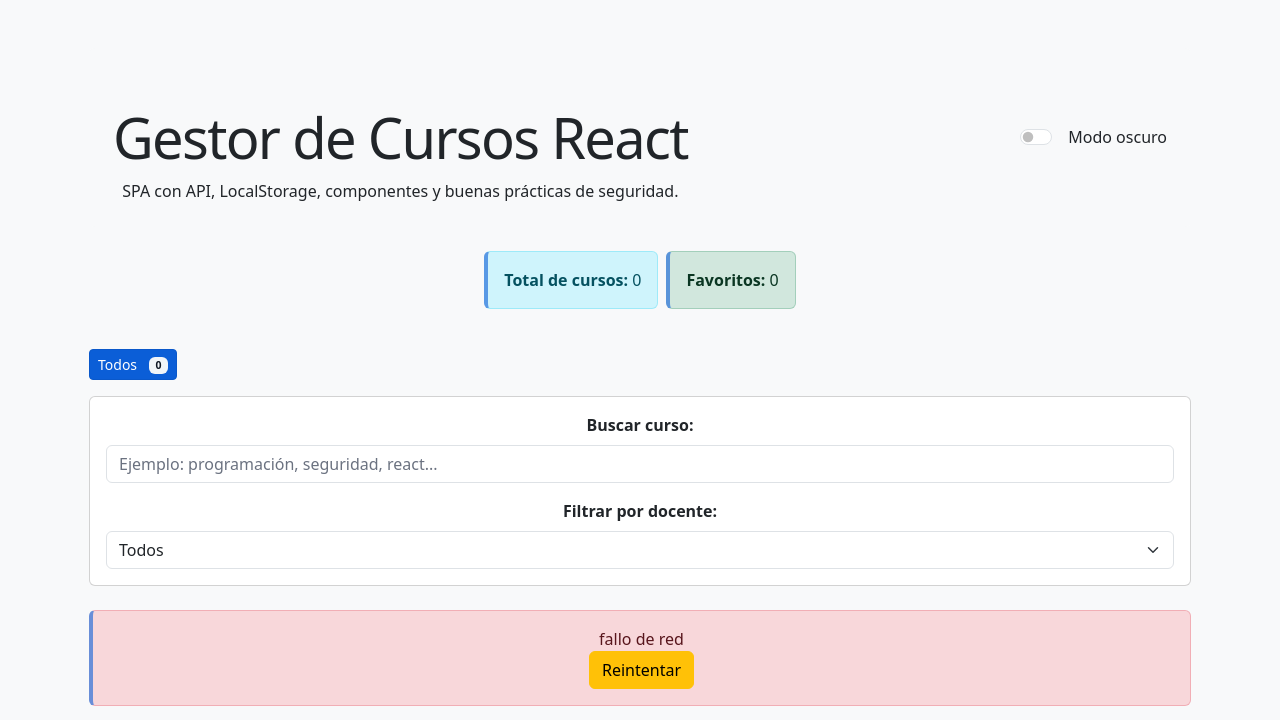
Test case: App › muestra error y permite reintentar carga
The image size is (1280, 720).
Expected: the text "fallo de red" is shown, [599,628,684,650]
Click the button "Reintentar" at (642, 670), box [589,651,694,689]
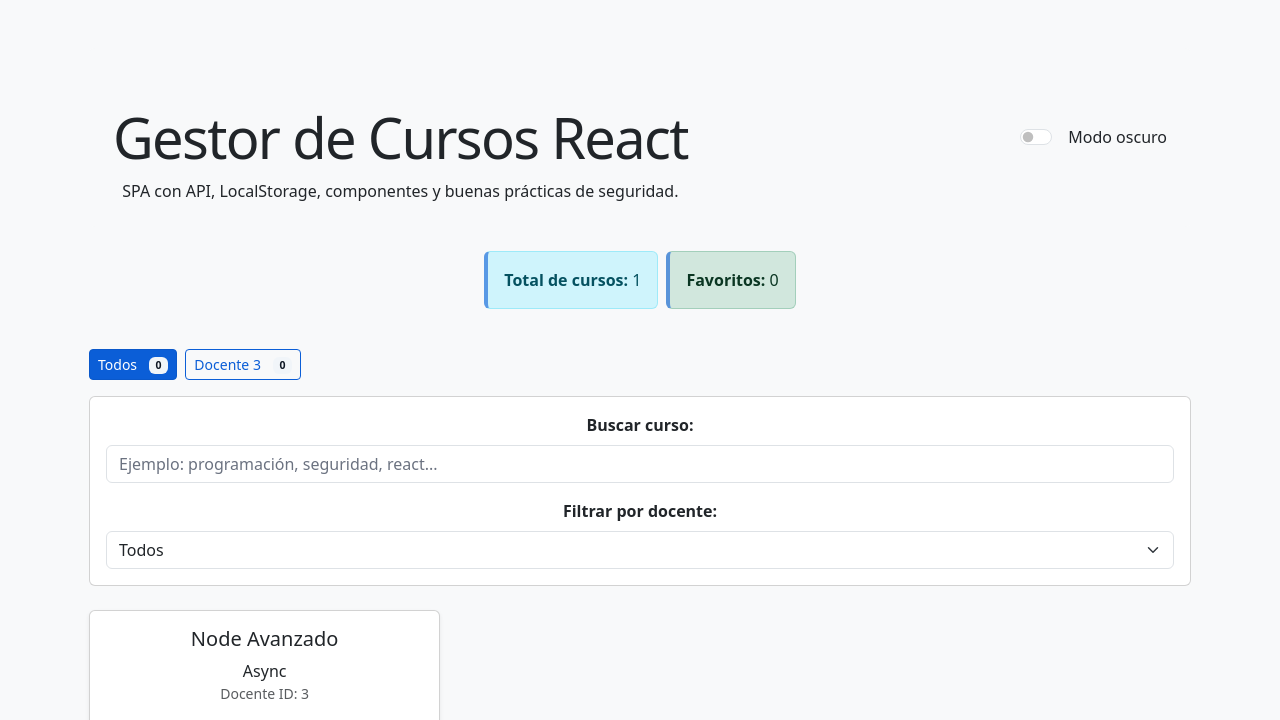
Result: the heading "Node avanzado" is shown at [191,625,338,652]
